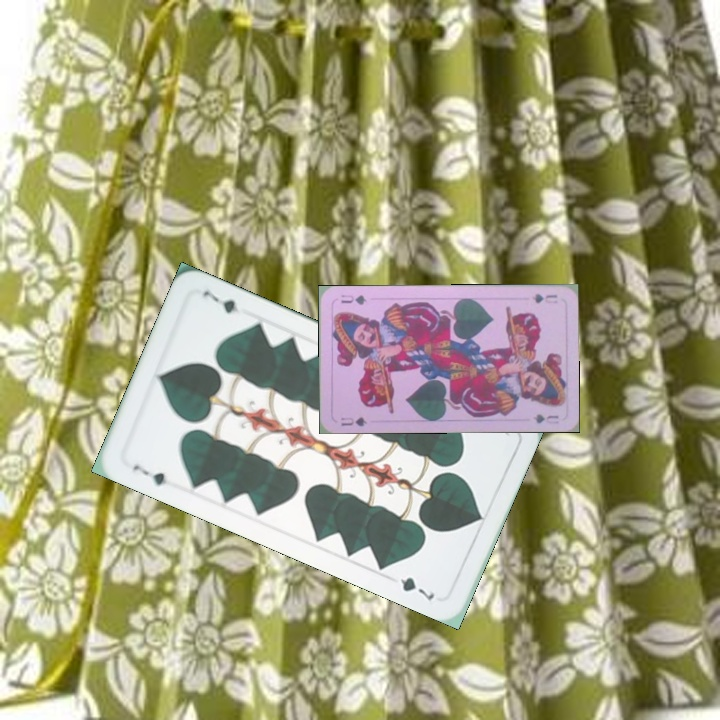G7: (129, 460, 170, 489)
GU: (337, 413, 369, 429), (528, 290, 560, 306)
